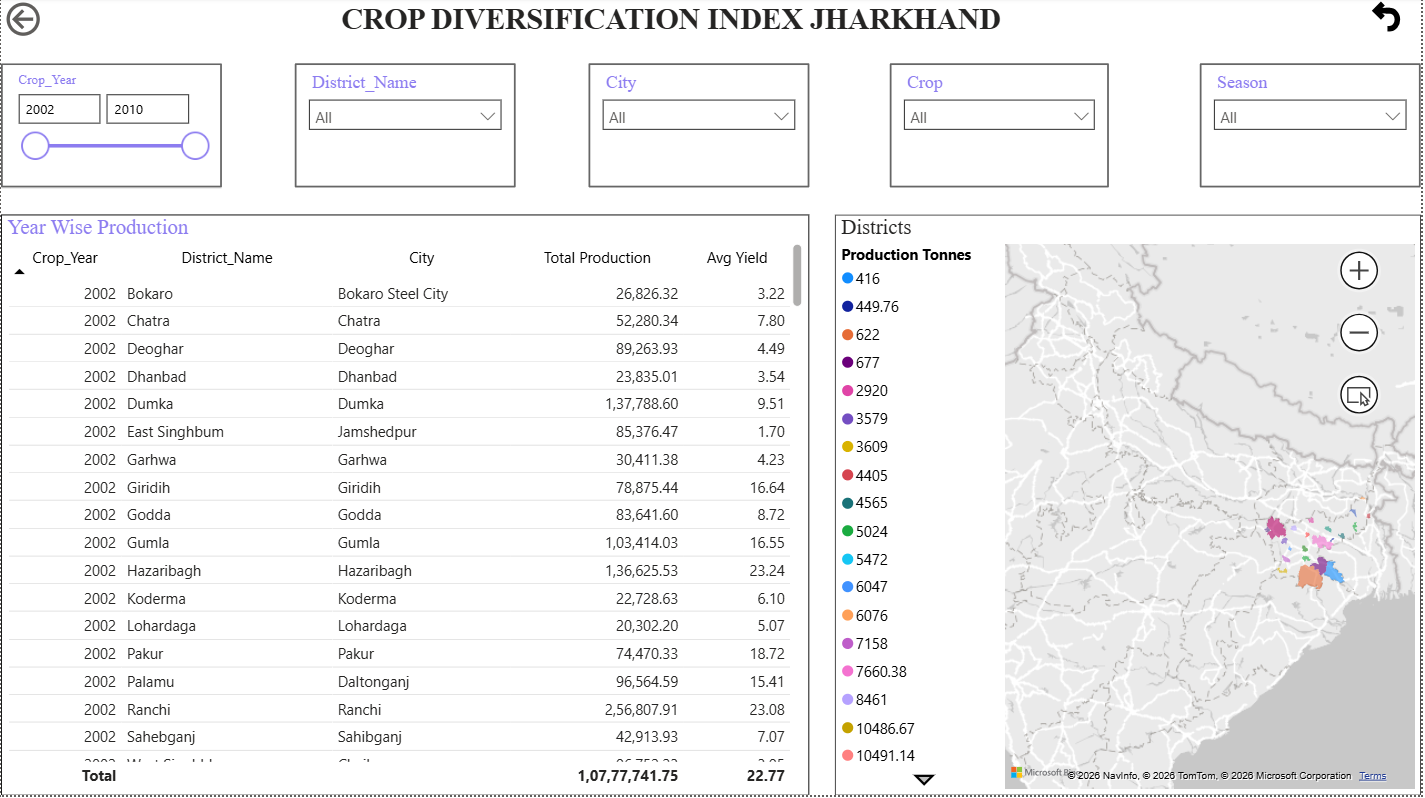

Layout of this report page (visuals, bound fields, positions):
{"tool":"powerbi","page":{"name":"Production Details","canvas":[1280,720],"ordinal":1},"visuals":[{"type":"slicer","fields":{"Values":["yearly_trend.Crop_Year"]},"box":[0,59.7,199,112],"z":0},{"type":"slicer","fields":{"Values":["yearly_trend.District_Name"]},"box":[265,59.7,199,112],"z":1},{"type":"slicer","fields":{"Values":["district_summary.City"]},"box":[529.9,59.7,199,112],"z":2},{"type":"slicer","fields":{"Values":["Jharkhand.Crop"]},"box":[801.1,59.7,197.8,112],"z":3},{"type":"slicer","fields":{"Values":["Jharkhand.Season"]},"box":[1081,59.7,199,112],"z":4},{"type":"textbox","box":[293.6,0,620,51.3],"z":5},{"type":"tableEx","title":"Year Wise Production","fields":{"Values":["yearly_trend.Crop_Year","yearly_trend.District_Name","yearly_trend.City","Sum(yearly_trend.Production)","Avg(yearly_trend.Yield)"]},"box":[0,196.5,729,523.7],"z":6},{"type":"filledMap","title":"Districts","fields":{"Category":["yearly_trend.District_Name"],"Series":["yearly_trend.Production"]},"box":[751.4,196.5,528.7,523.7],"z":7},{"type":"actionButton","box":[0,0,100,40],"z":8},{"type":"actionButton","box":[1231.5,0,48.5,34.8],"z":9}]}

Visuals, with their boxes in screenshot pixels (x1, y1, x2, y2), scaled from the page's 1280x720 canvas onto the 1425x798 screenshot:
slicer - yearly_trend.Crop_Year: bbox(0, 66, 222, 190)
slicer - yearly_trend.District_Name: bbox(295, 66, 517, 190)
slicer - district_summary.City: bbox(590, 66, 811, 190)
slicer - Jharkhand.Crop: bbox(892, 66, 1112, 190)
slicer - Jharkhand.Season: bbox(1203, 66, 1424, 190)
textbox: bbox(327, 0, 1017, 57)
"Year Wise Production" tableEx: bbox(0, 218, 812, 797)
"Districts" filledMap: bbox(837, 218, 1424, 797)
actionButton: bbox(0, 0, 111, 44)
actionButton: bbox(1371, 0, 1424, 39)
